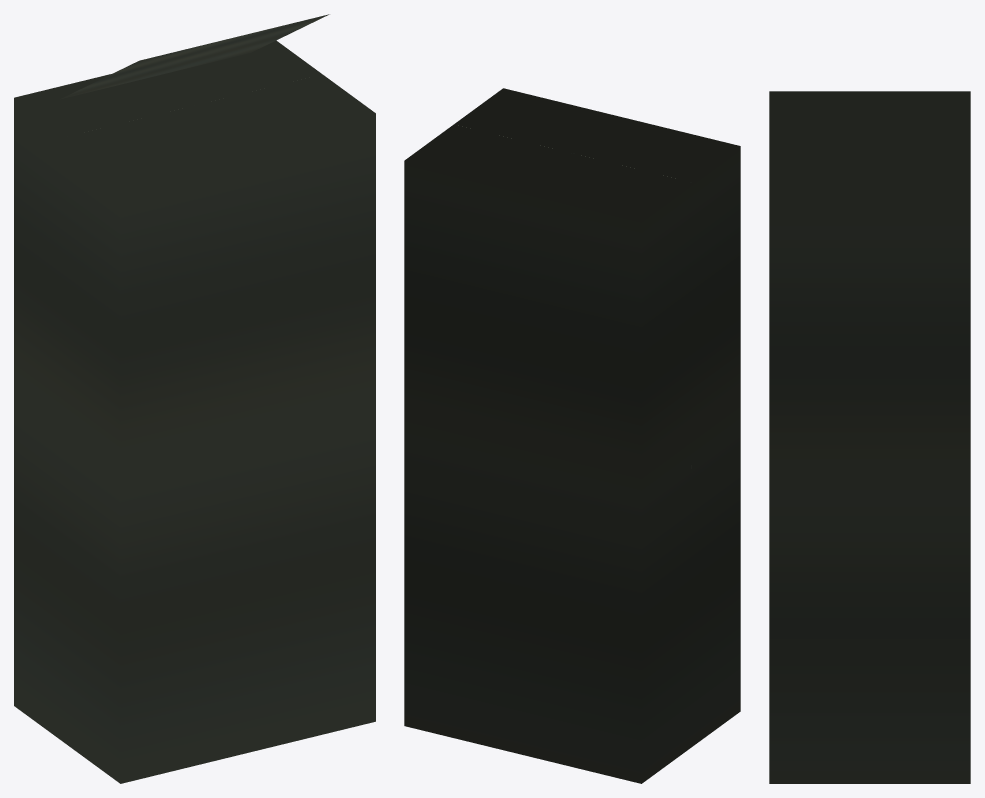
The model's file is prop_locker_metal_a.glb.
3 views of the same model, side by side, from view 1: azimuth 30°, elevation 25°; view 2: azimuth 150°, elevation 25°; view 3: azimuth 270°, elevation 25° (orthographic). The views are drawn at different scales.
Visible parts, largest first — view 1: prop_locker_metal_a; view 2: prop_locker_metal_a; view 3: prop_locker_metal_a.
Part boxes in pixels (<box>): prop_locker_metal_a: <box>14,14,375,783</box>; prop_locker_metal_a: <box>404,88,740,783</box>; prop_locker_metal_a: <box>769,91,970,783</box>.
Bounding box in the file's own units: 0.9 × 2.38 × 0.65.
Materials: 1 (1 with a texture image).
